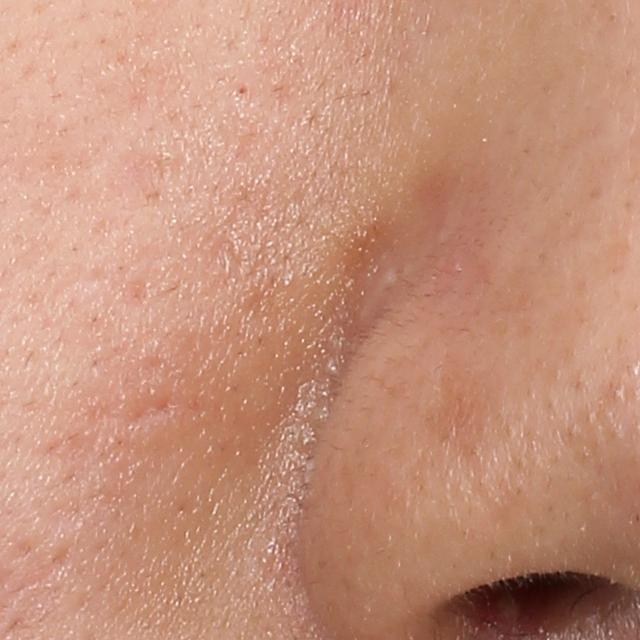atrophic_scar: (119, 390, 179, 432)
